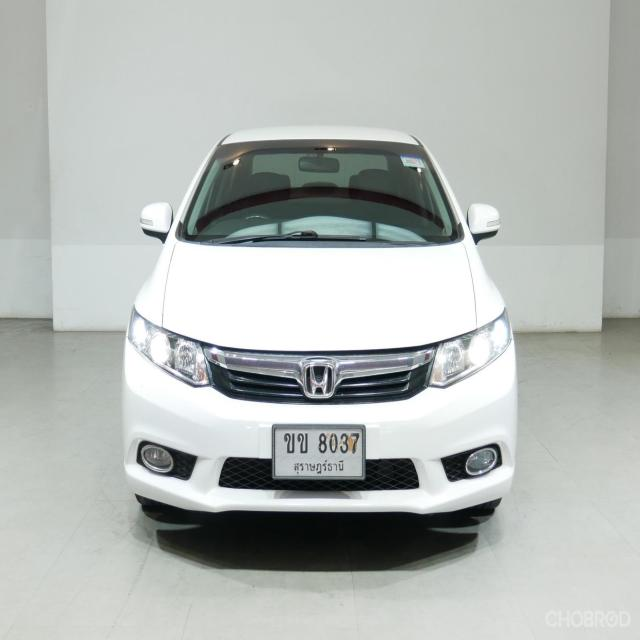license_plate: (266, 416, 372, 488)
